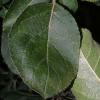Apple leaf: (8, 1, 84, 98)
